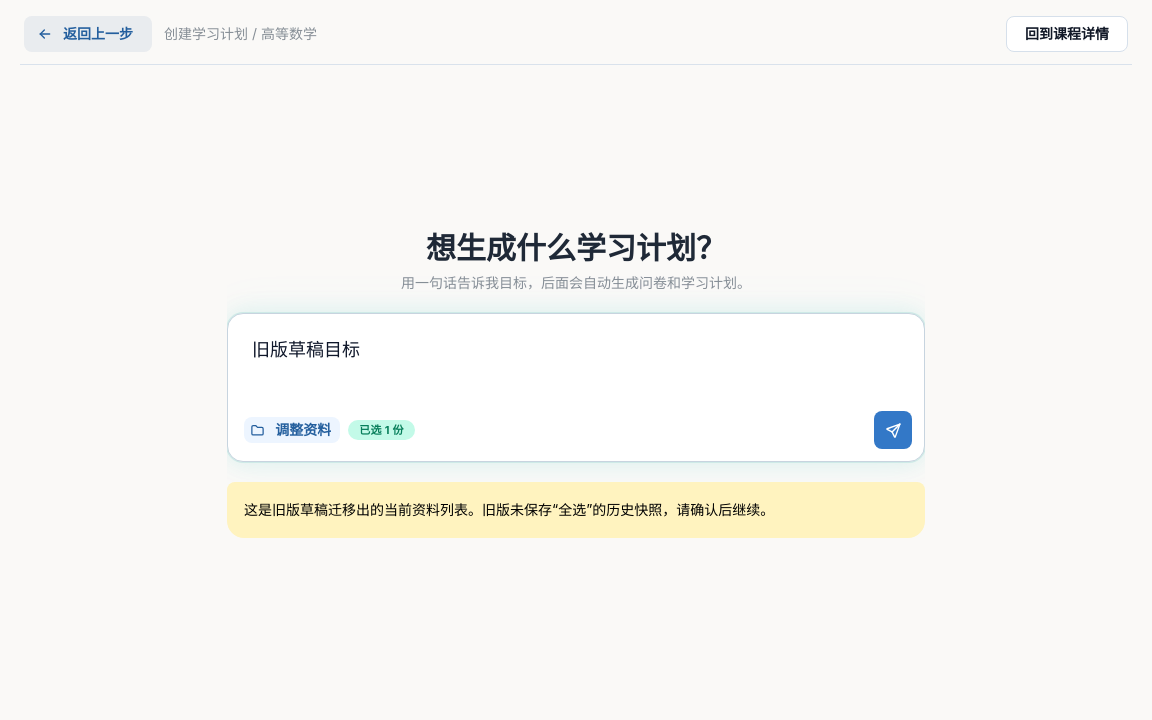
Test case: study plan pages › migrates a legacy all-material draft but requires confirmation
Expected: the text box showing "旧版草稿目标" is shown, [228, 314, 924, 405]
Expected: the text "这是旧版草稿迁移出的当前资料列表。旧版未保存“全选”的历史快照，请确认后继续。" is shown, [244, 501, 774, 518]
Step 1. Click the button with test id "study-plan-goal-submit" → (893, 430), box [874, 411, 912, 449]
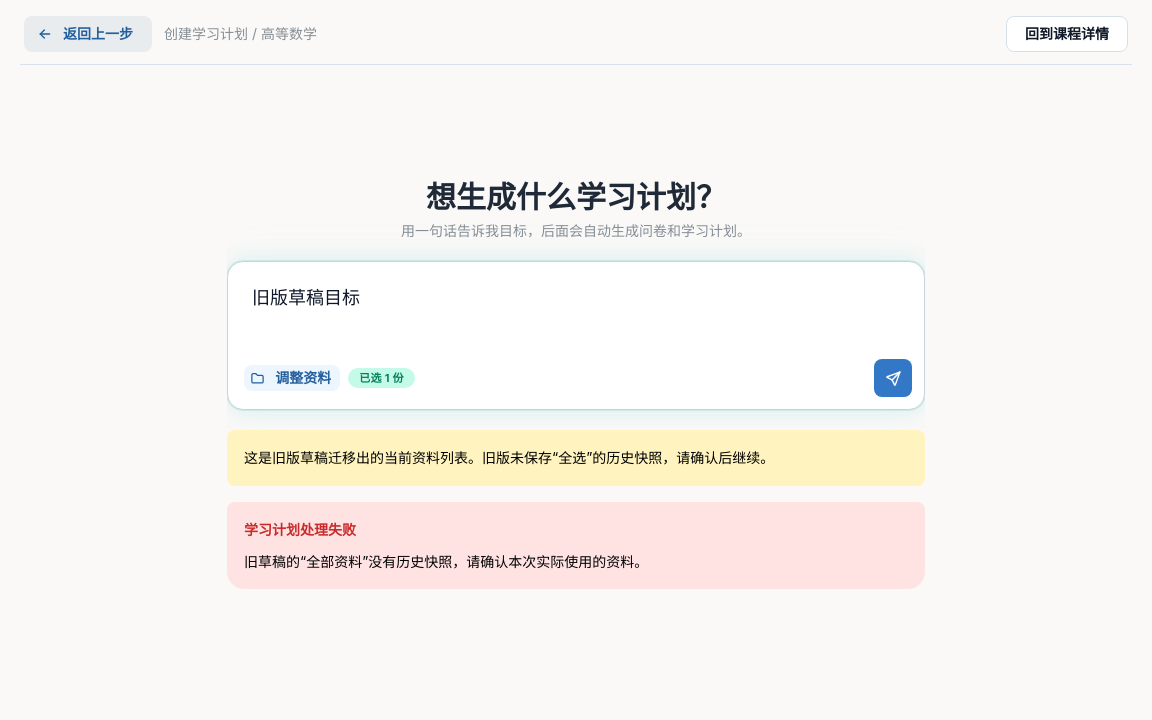
Now the text "旧草稿的“全部资料”没有历史快照，请确认本次实际使用的资料。" is shown, box [244, 553, 648, 570]
